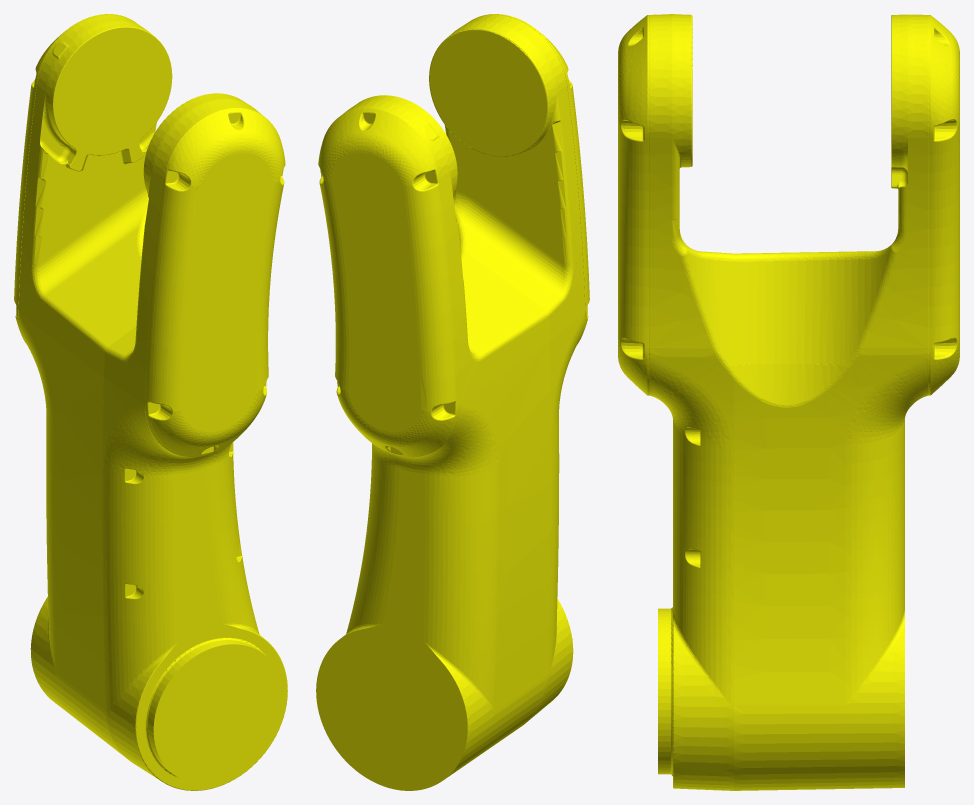
The picture shows the model from 3 angles, left to right: view 1: azimuth 30°, elevation 25°; view 2: azimuth 150°, elevation 25°; view 3: azimuth 270°, elevation 25°; orthographic projection. The views are drawn at different scales.
Parts seen in each view (by area): view 1: node0; view 2: node0; view 3: node0.
Boxes of the visible parts, x1,y1,x2,y2 form: node0: [14, 14, 287, 790]; node0: [316, 14, 589, 790]; node0: [618, 14, 959, 790].
Bounding box in the file's own units: 0.1352 × 0.227 × 0.5571.
